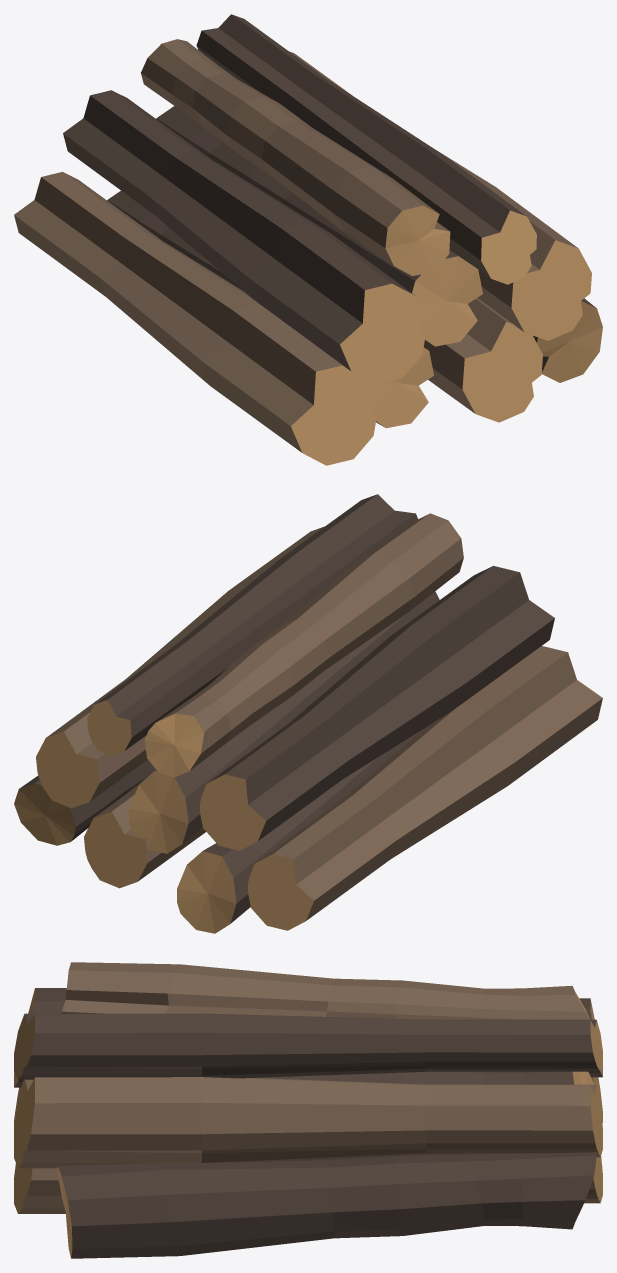
The model's file is Logs_1.fbx.
3 renders of one model, top to bottom at view 1: azimuth 30°, elevation 25°; view 2: azimuth 150°, elevation 25°; view 3: azimuth 270°, elevation 25°, orthographic. The views are drawn at different scales.
Parts seen in each view (by area): view 1: Logs_1; view 2: Logs_1; view 3: Logs_1.
Part boxes in pixels (x1=…): Logs_1: x1=14, y1=14, x2=602, y2=465; Logs_1: x1=14, y1=494, x2=602, y2=933; Logs_1: x1=14, y1=962, x2=602, y2=1258.
Bounding box in the file's own units: 108 × 165 × 70.
